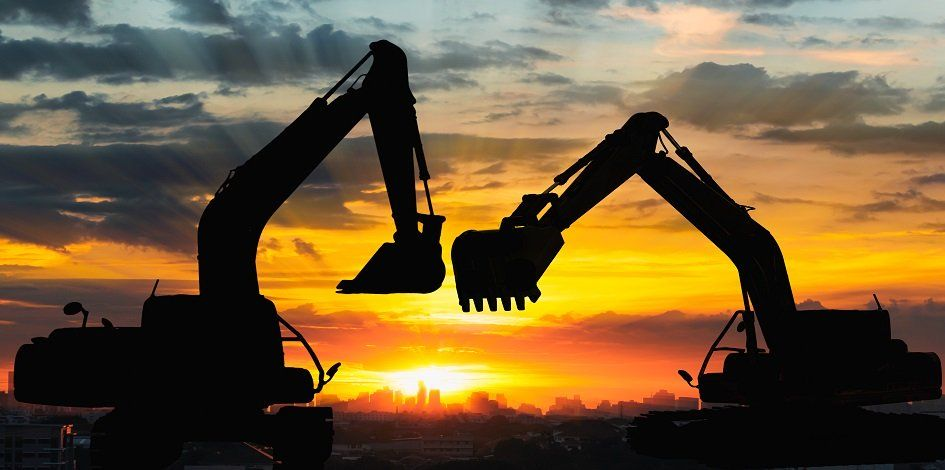excavator: (11, 38, 436, 465), (450, 77, 853, 460)
